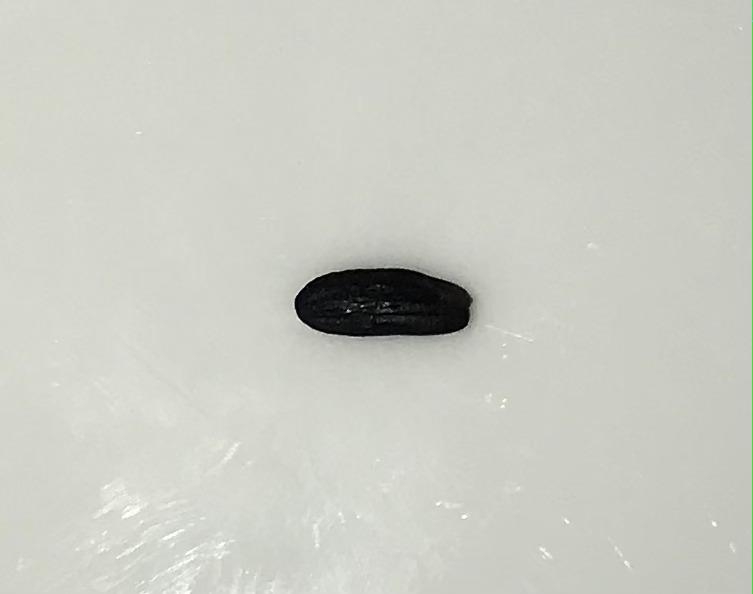Gao lut: (294, 269, 473, 338)
